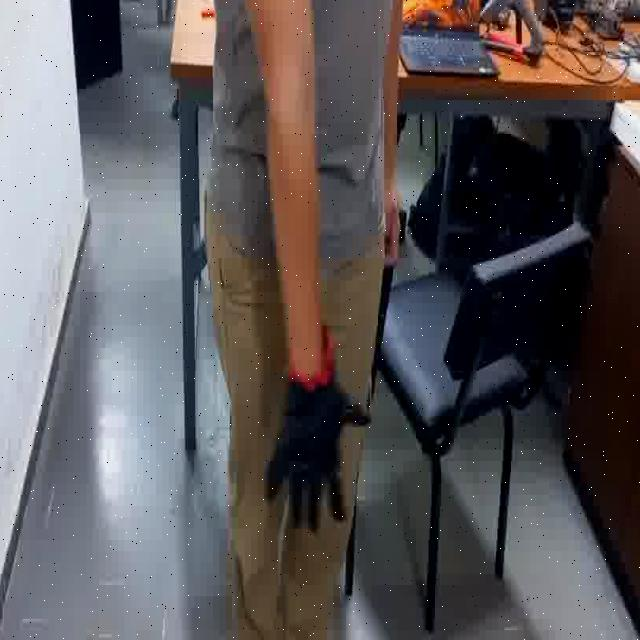Gloves: (262, 350, 371, 541)
